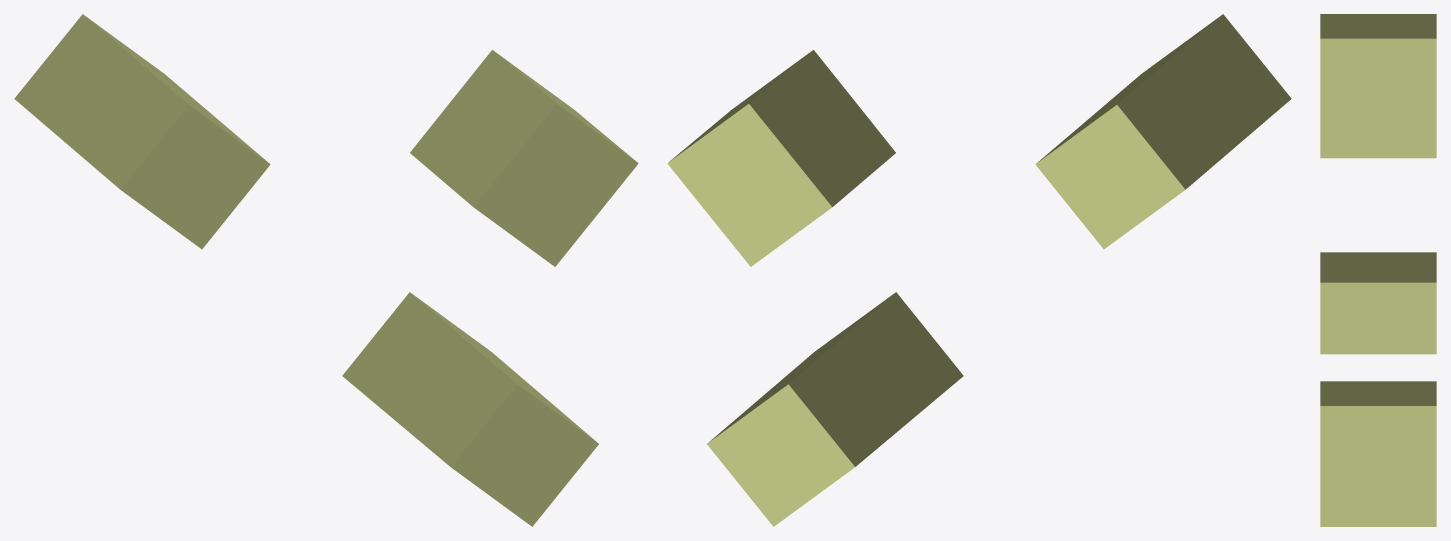
3 renders of one model, left to right at view 1: azimuth 30°, elevation 25°; view 2: azimuth 150°, elevation 25°; view 3: azimuth 270°, elevation 25°, orthographic. The views are drawn at different scales.
Parts seen in each view (by area): view 1: 0_0_1_1_3_2_0_3_1; view 2: 0_0_1_1_3_2_0_3_1; view 3: 0_0_1_1_3_2_0_3_1.
Boxes of the visible parts, x1,y1,x2,y2 form: 0_0_1_1_3_2_0_3_1: (14, 14, 638, 526); 0_0_1_1_3_2_0_3_1: (667, 14, 1291, 526); 0_0_1_1_3_2_0_3_1: (1320, 14, 1436, 526).
Size of the model in its own units: 34.51 by 32.99 by 9.
